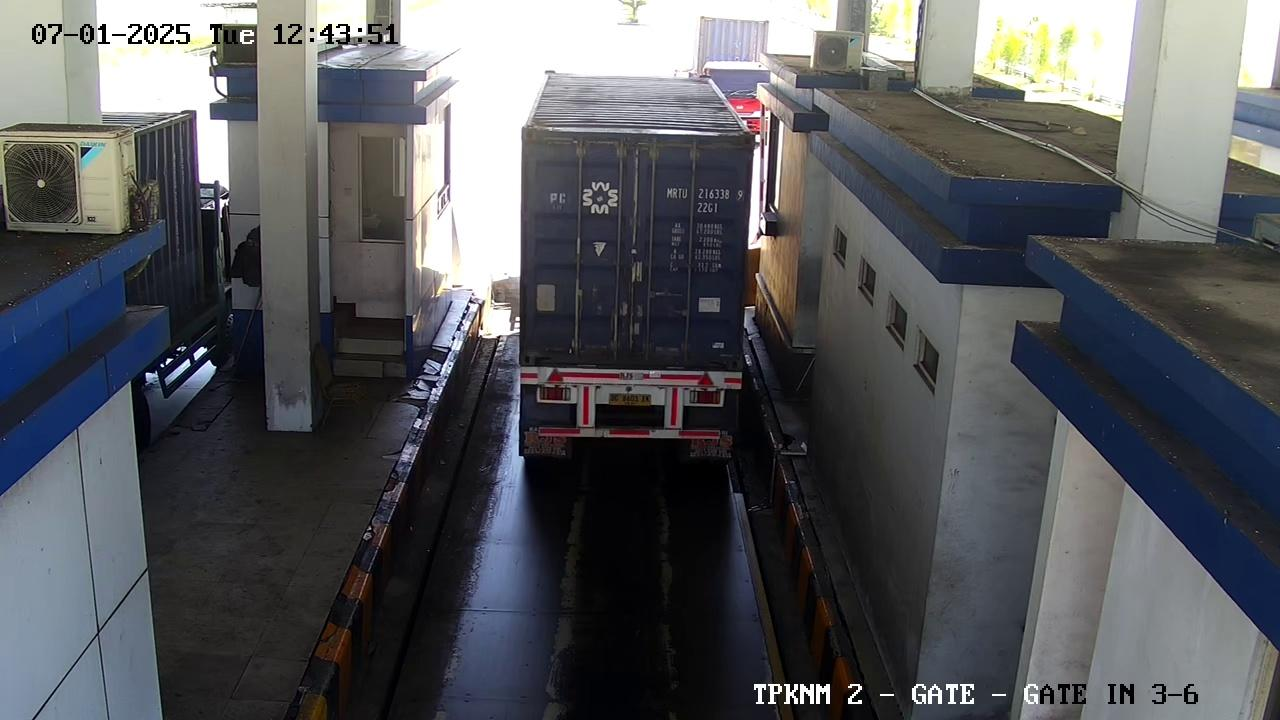Container_ID: (655, 175, 750, 202)
plate_number: (597, 388, 663, 415)
